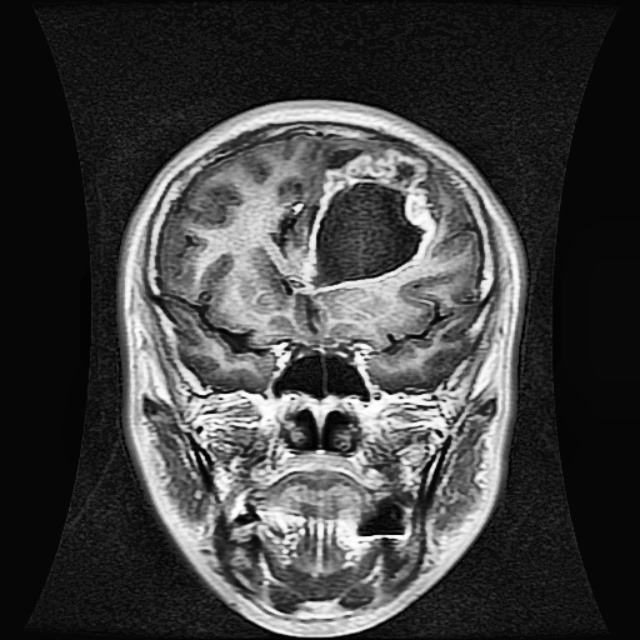Meningioma: (302, 142, 437, 295)
